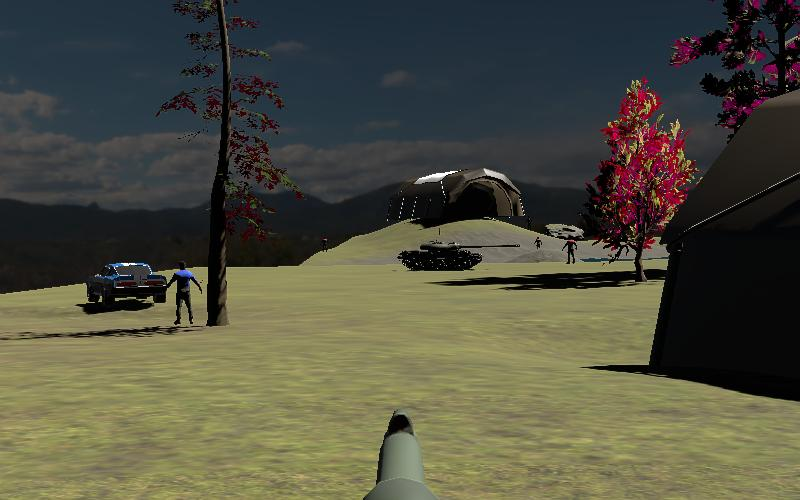Human: (166, 259, 204, 327), (560, 234, 581, 267), (533, 236, 544, 251)
Tank: (394, 236, 522, 275)
car: (84, 258, 170, 309)
